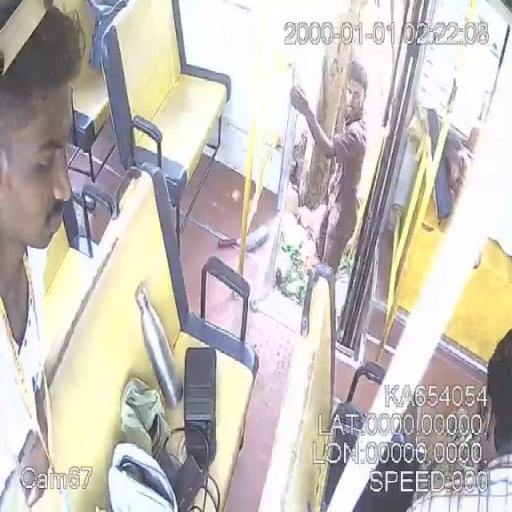persona: (0, 4, 87, 510), (288, 58, 370, 280)
